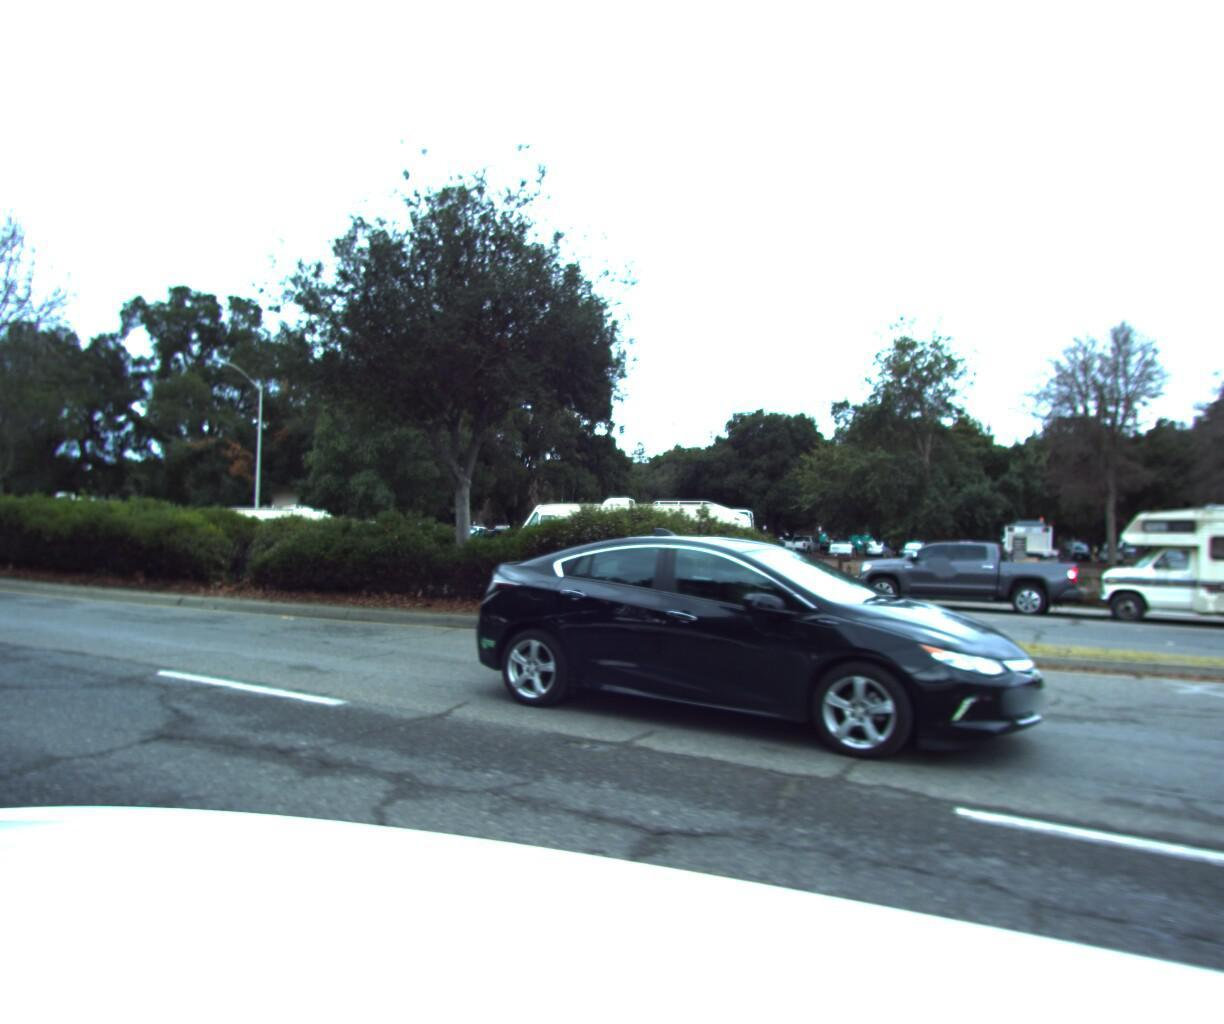car: (440, 522, 1040, 782), (852, 535, 1089, 616)
other_vehicle: (505, 489, 768, 596), (1094, 481, 1224, 647), (204, 497, 338, 563), (0, 484, 129, 541)
